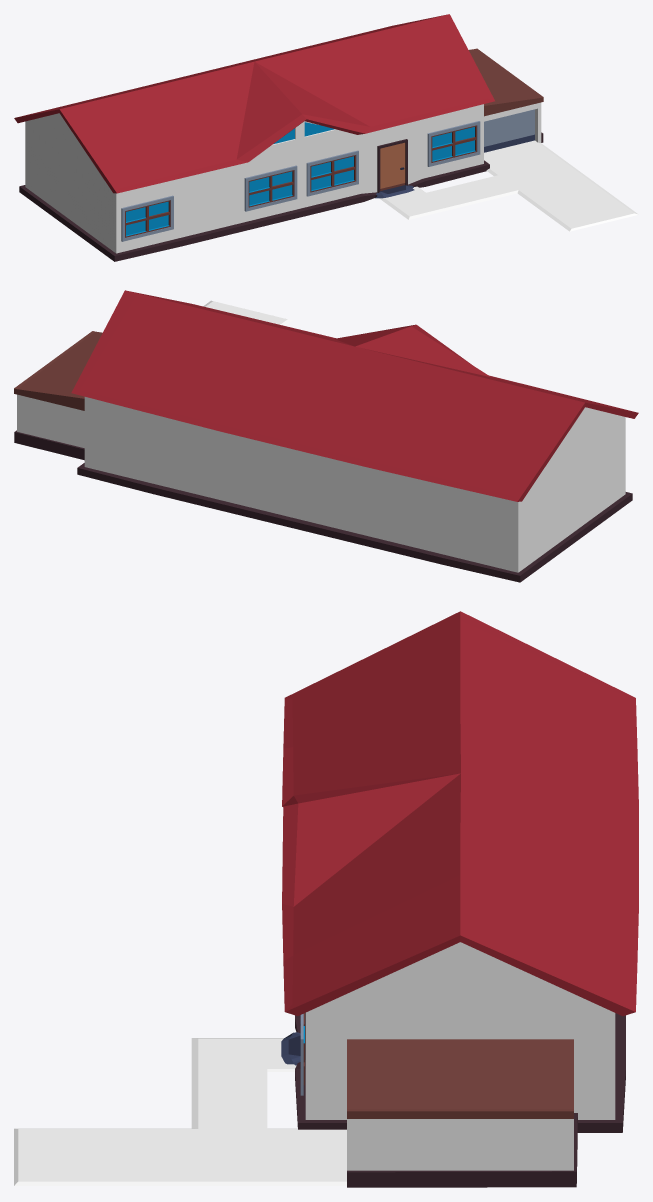
File: house1.fbx
The picture shows the model from 3 angles, top to bottom: view 1: azimuth 30°, elevation 25°; view 2: azimuth 150°, elevation 25°; view 3: azimuth 270°, elevation 25°; orthographic projection. The views are drawn at different scales.
Parts seen in each view (by area): view 1: House-1; view 2: House-1; view 3: House-1.
Boxes of the visible parts, x1,y1,x2,y2 form: House-1: (14, 14, 638, 261); House-1: (14, 290, 638, 582); House-1: (14, 611, 638, 1187).
Size of the model in its own units: 5.73 by 1.45 by 4.04.
